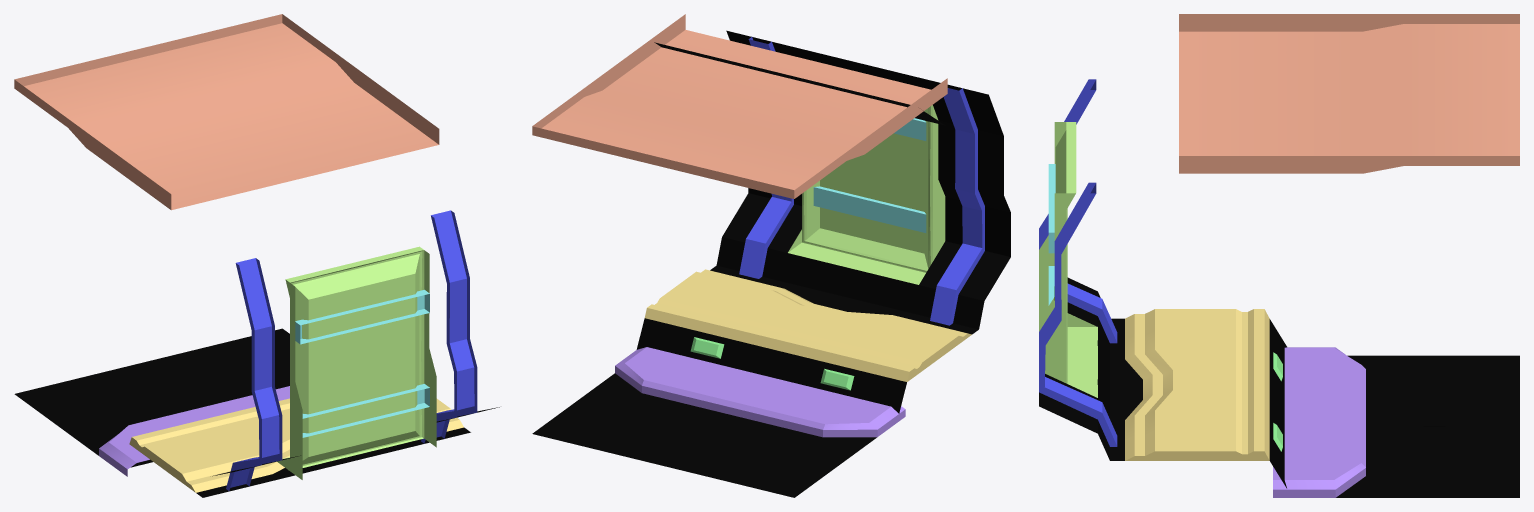
The model's file is Stage02PartsA2_v2.0.FBX.
The picture shows the model from 3 angles, left to right: view 1: azimuth 30°, elevation 25°; view 2: azimuth 150°, elevation 25°; view 3: azimuth 270°, elevation 25°; orthographic projection. The views are drawn at different scales.
Parts seen in each view (by area): view 1: PartsA2_v2.0_001; view 2: PartsA2_v2.0_001; view 3: PartsA2_v2.0_001.
Part boxes in pixels (x1,y1,x2,y2): PartsA2_v2.0_001: (14,14,499,497); PartsA2_v2.0_001: (532,14,1010,497); PartsA2_v2.0_001: (1039,14,1519,497).
Size of the model in its own units: 276 by 309 by 394.
